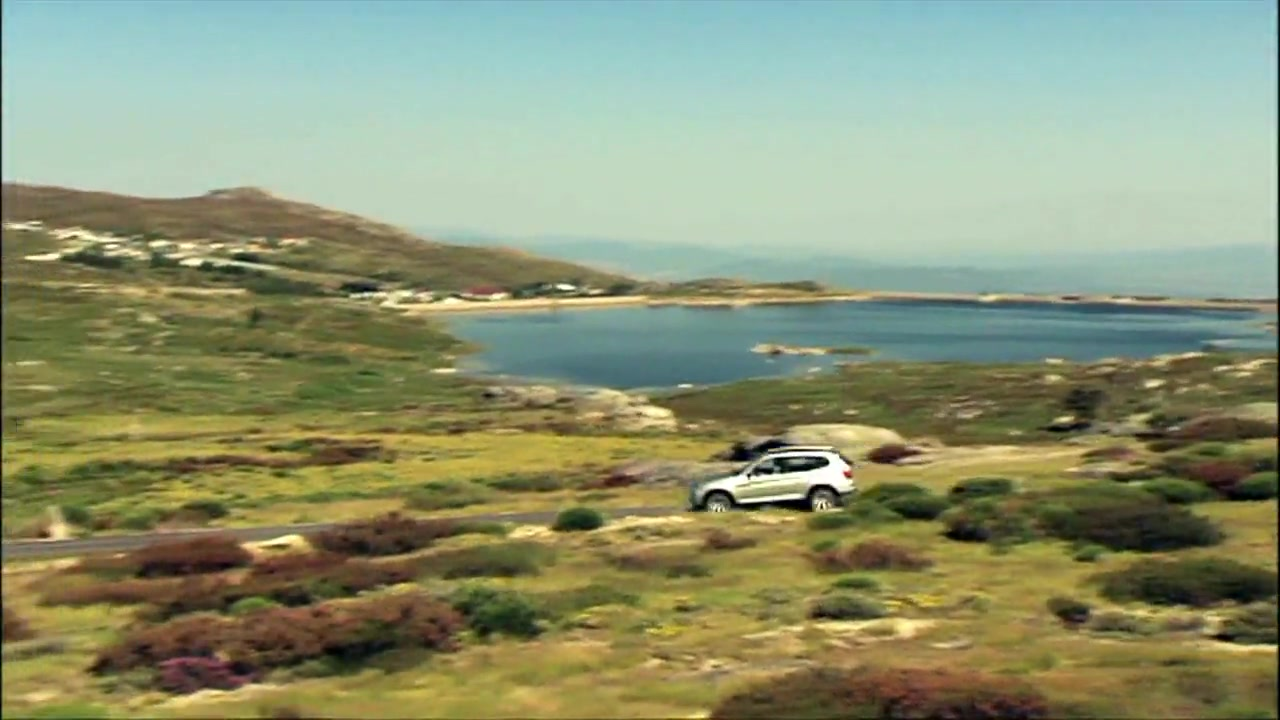car: (683, 446, 861, 517)
